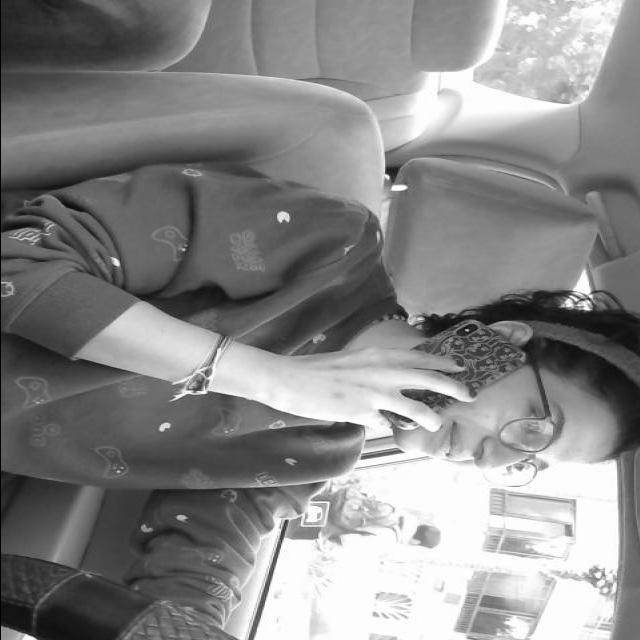mobile use: (366, 318, 524, 428)
